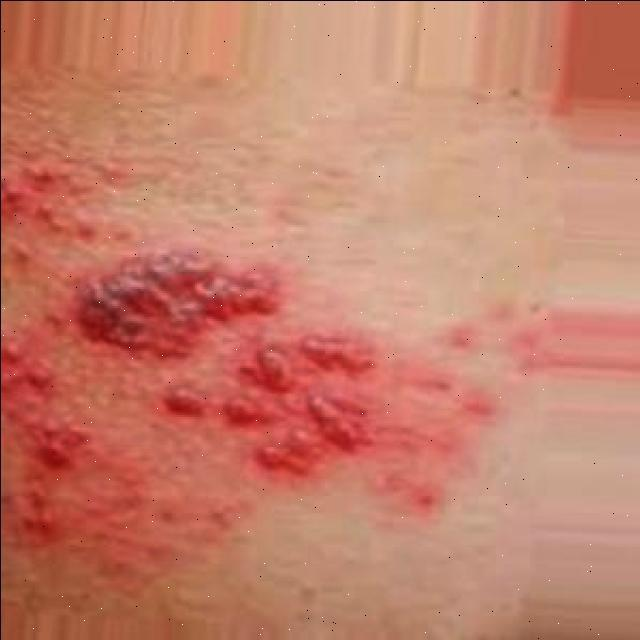Shingles: (162, 335, 380, 473), (54, 238, 282, 359), (0, 332, 89, 549)
